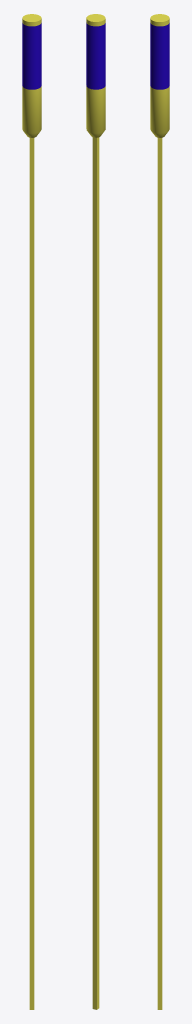
The model's file is marker3.gltf.
The picture shows the model from 3 angles, left to right: view 1: azimuth 90°, elevation 25°; view 2: azimuth 150°, elevation 25°; view 3: azimuth 270°, elevation 25°; orthographic projection.
Parts seen in each view (by area): view 1: Box001, Cylinder001; view 2: Box001, Cylinder001; view 3: Box001, Cylinder001.
Boxes of the visible parts, x1,y1,x2,y2 form: Box001: (29,138,34,1009); Cylinder001: (22,14,41,137); Box001: (92,137,99,1009); Cylinder001: (86,14,105,137); Box001: (157,138,162,1009); Cylinder001: (150,14,169,137).
Size of the model in its own units: 0.08 by 4.54 by 0.08.
